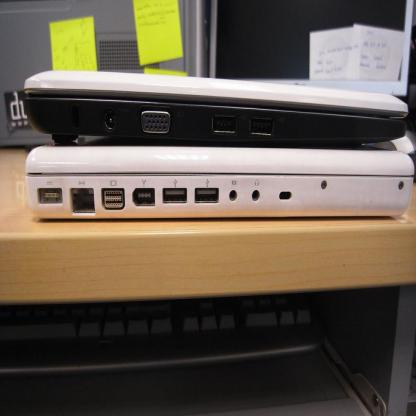board: (25, 72, 409, 150), (26, 144, 414, 218)
